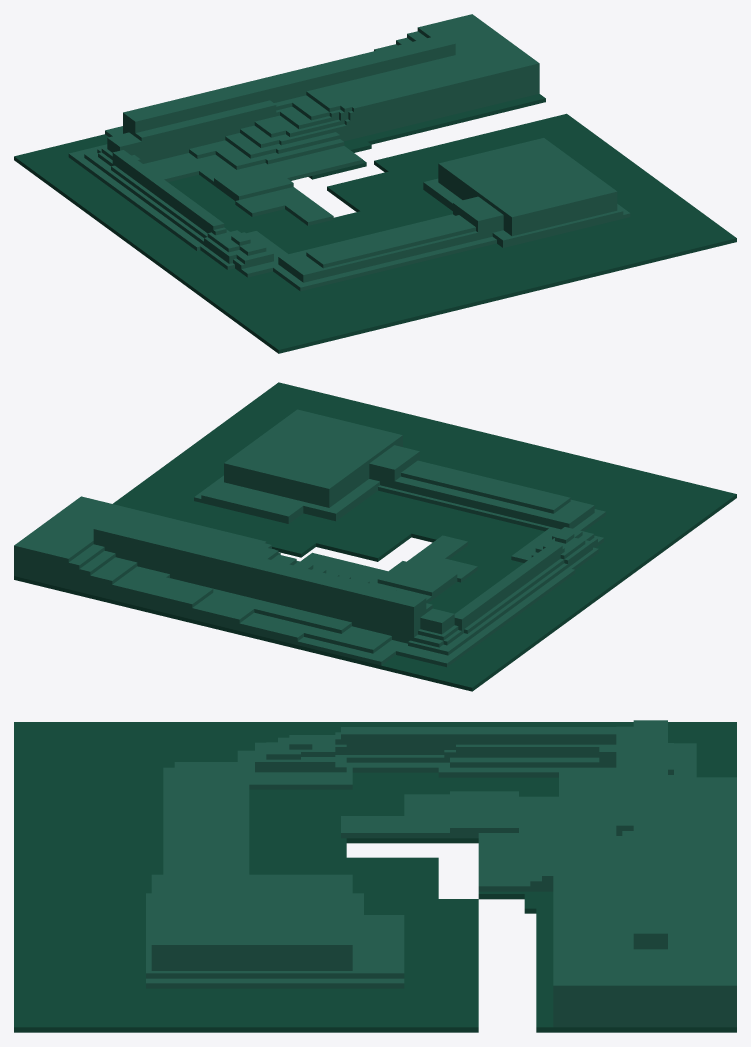
The model's file is map1.obj.
The picture shows the model from 3 angles, top to bottom: view 1: azimuth 30°, elevation 25°; view 2: azimuth 150°, elevation 25°; view 3: azimuth 270°, elevation 25°; orthographic projection. The views are drawn at different scales.
Bounding box in the file's own units: 12.6 × 1.2 × 12.6.
Materials: 1 (1 with a texture image).
